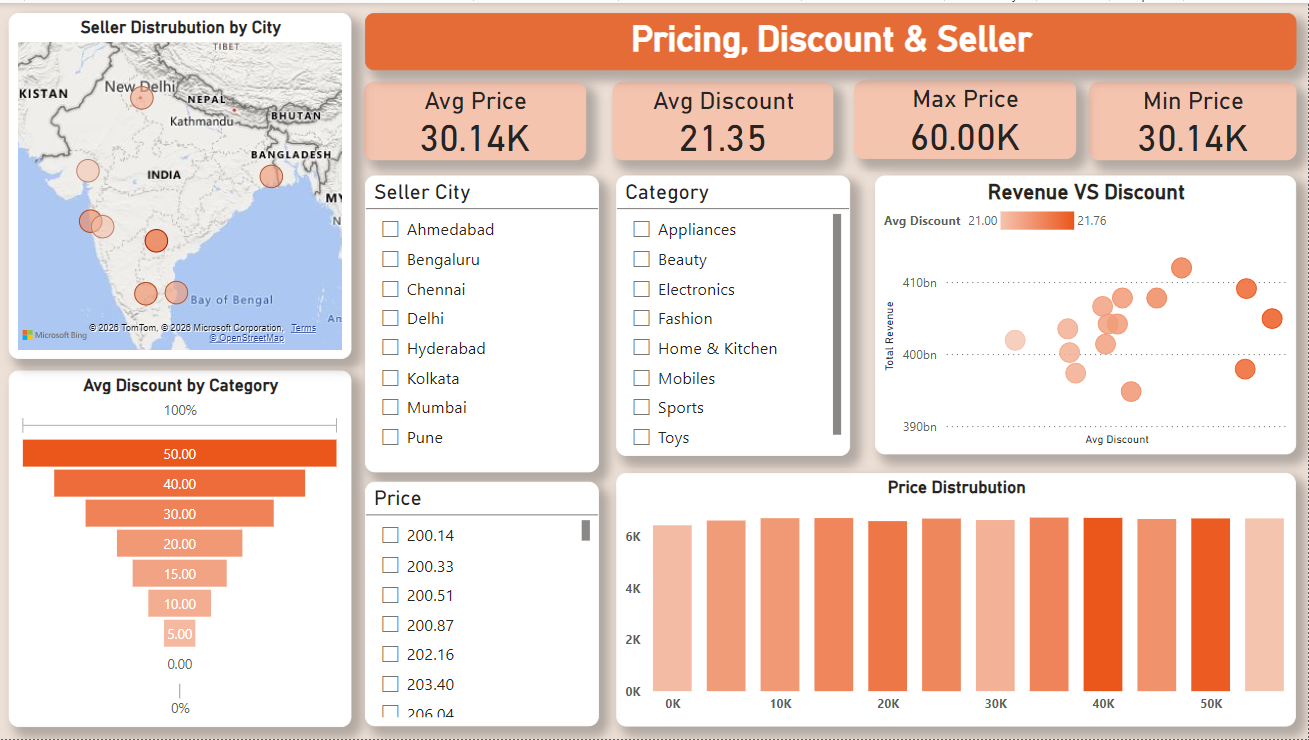

The dashboard page shown, as its layout file describes it:
{"tool":"powerbi","page":{"name":"Page 2","canvas":[1280,720],"ordinal":1},"visuals":[{"type":"card","title":"Avg Discount","fields":{"Values":["flipkard.Avg Discount"]},"box":[599.1,77.1,216.1,77.1],"z":0},{"type":"card","title":"Min Price","fields":{"Values":["flipkard.Avg Price"]},"box":[1065.4,77.1,203.5,77.1],"z":1000},{"type":"card","title":"Max Price","fields":{"Values":["flipkard.Max Price"]},"box":[835.4,75.8,217.4,77.1],"z":2000},{"type":"card","title":"Avg Price","fields":{"Values":["flipkard.Avg Price"]},"box":[356.4,77.1,217.4,77.1],"z":3000},{"type":"funnel","title":"Avg Discount by Category","fields":{"Y":["flipkard.Avg Discount"],"Category":["flipkard.discount_percent"]},"box":[8.6,359.5,335.1,348.5],"z":4000},{"type":"map","title":"Seller Distrubution by City","fields":{"Category":["flipkard.seller_city"],"Size":["flipkard.Seller City"]},"box":[8.6,9.8,335.1,338.7],"z":5000},{"type":"scatterChart","title":"Revenue VS Discount","fields":{"X":["flipkard.Avg Discount"],"Y":["flipkard.Total Revenue"],"Size":["flipkard.Total Units Sold"],"Category":["flipkard.brand"]},"box":[855.6,169.4,412,273],"z":6000},{"type":"columnChart","title":"Price Distrubution","fields":{"Category":["flipkard.price (bins)"],"Y":["flipkard.Product Count"]},"box":[602.8,460,664.8,247.7],"z":6001},{"type":"slicer","title":"Seller City","fields":{"Values":["flipkard.seller_city"]},"box":[357.7,169.4,228.8,290.7],"z":6002},{"type":"slicer","title":"Price","fields":{"Values":["flipkard.price"]},"box":[357.7,468.9,228.8,238.9],"z":6003},{"type":"slicer","title":"Category","fields":{"Values":["flipkard.category"]},"box":[602.8,169.4,228.8,274.3],"z":6004},{"type":"textbox","title":"Pricing, Discount & Seller","box":[357.7,10.1,911.2,55.6],"z":6005}]}

Visuals, with their boxes in screenshot pixels (x1, y1, x2, y2), scaled from the page's 1280x720 canvas onto the 1309x740 screenshot:
"Avg Discount" card: <bbox>613, 79, 834, 158</bbox>
"Min Price" card: <bbox>1090, 79, 1298, 158</bbox>
"Max Price" card: <bbox>854, 78, 1077, 157</bbox>
"Avg Price" card: <bbox>364, 79, 587, 158</bbox>
"Avg Discount by Category" funnel: <bbox>9, 369, 351, 728</bbox>
"Seller Distrubution by City" map: <bbox>9, 10, 351, 358</bbox>
"Revenue VS Discount" scatterChart: <bbox>875, 174, 1296, 455</bbox>
"Price Distrubution" columnChart: <bbox>616, 473, 1296, 727</bbox>
"Seller City" slicer: <bbox>366, 174, 600, 473</bbox>
"Price" slicer: <bbox>366, 482, 600, 727</bbox>
"Category" slicer: <bbox>616, 174, 850, 456</bbox>
"Pricing, Discount & Seller" textbox: <bbox>366, 10, 1298, 68</bbox>
